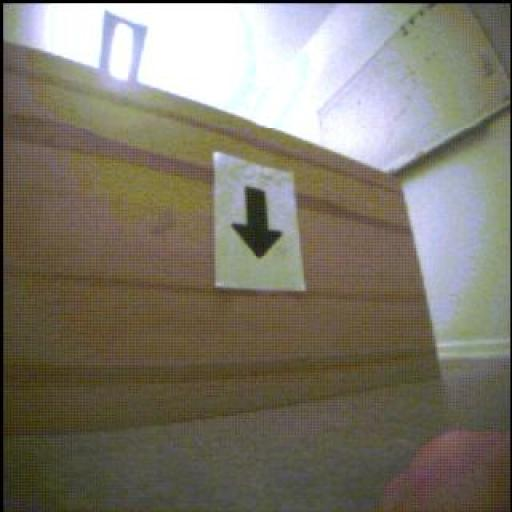Arrow: (233, 188, 283, 259)
